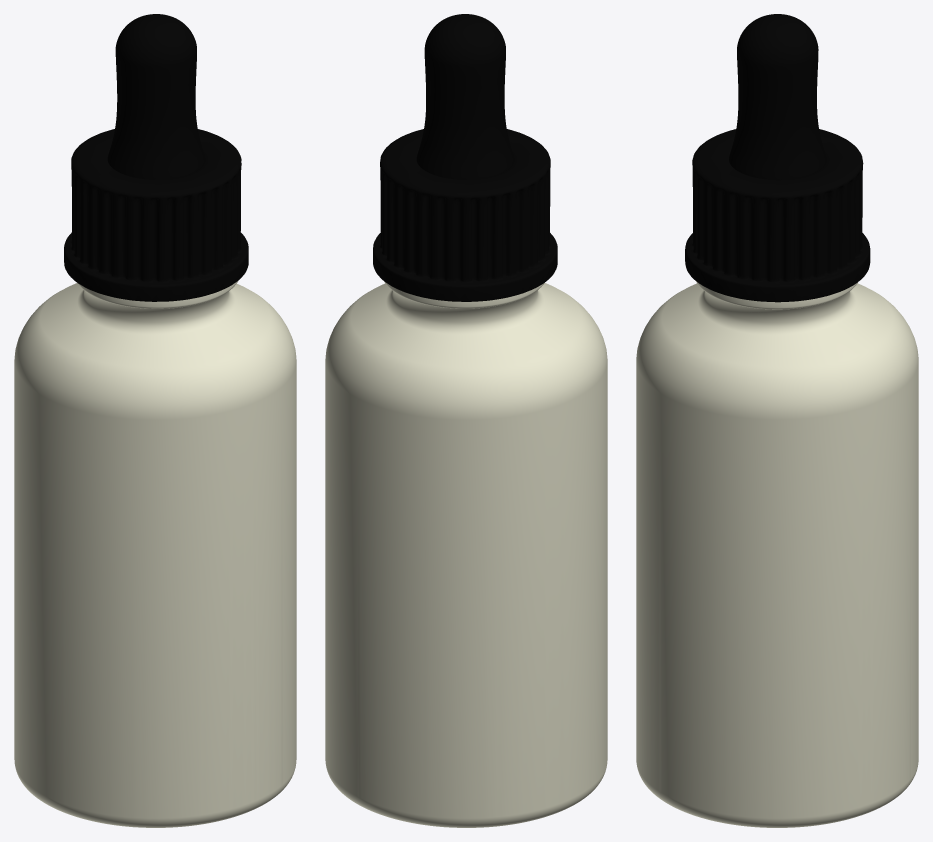
The model's file is flow3.glb.
3 renders of one model, left to right at view 1: azimuth 30°, elevation 25°; view 2: azimuth 150°, elevation 25°; view 3: azimuth 270°, elevation 25°, orthographic.
Parts seen in each view (by area): view 1: Plane, Circle; view 2: Plane, Circle; view 3: Plane, Circle.
Part boxes in pixels (x1,y1,x2,y2): Plane: (14,280,296,827); Circle: (64,14,248,301); Plane: (325,281,607,827); Circle: (373,14,557,301); Plane: (636,281,918,827); Circle: (685,14,870,302).
Bounding box in the file's own units: 1.09 × 3.22 × 1.09.
